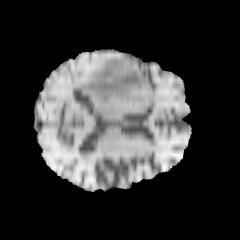glioma: (77, 58, 138, 103)
